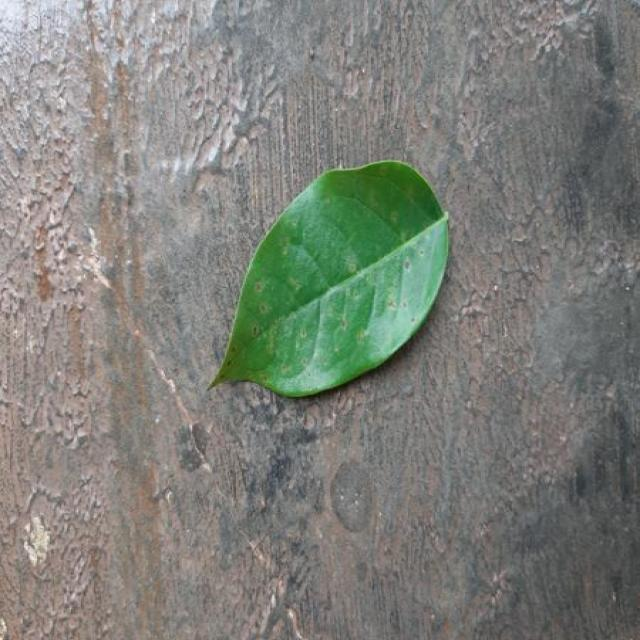amla: (210, 161, 448, 396)
